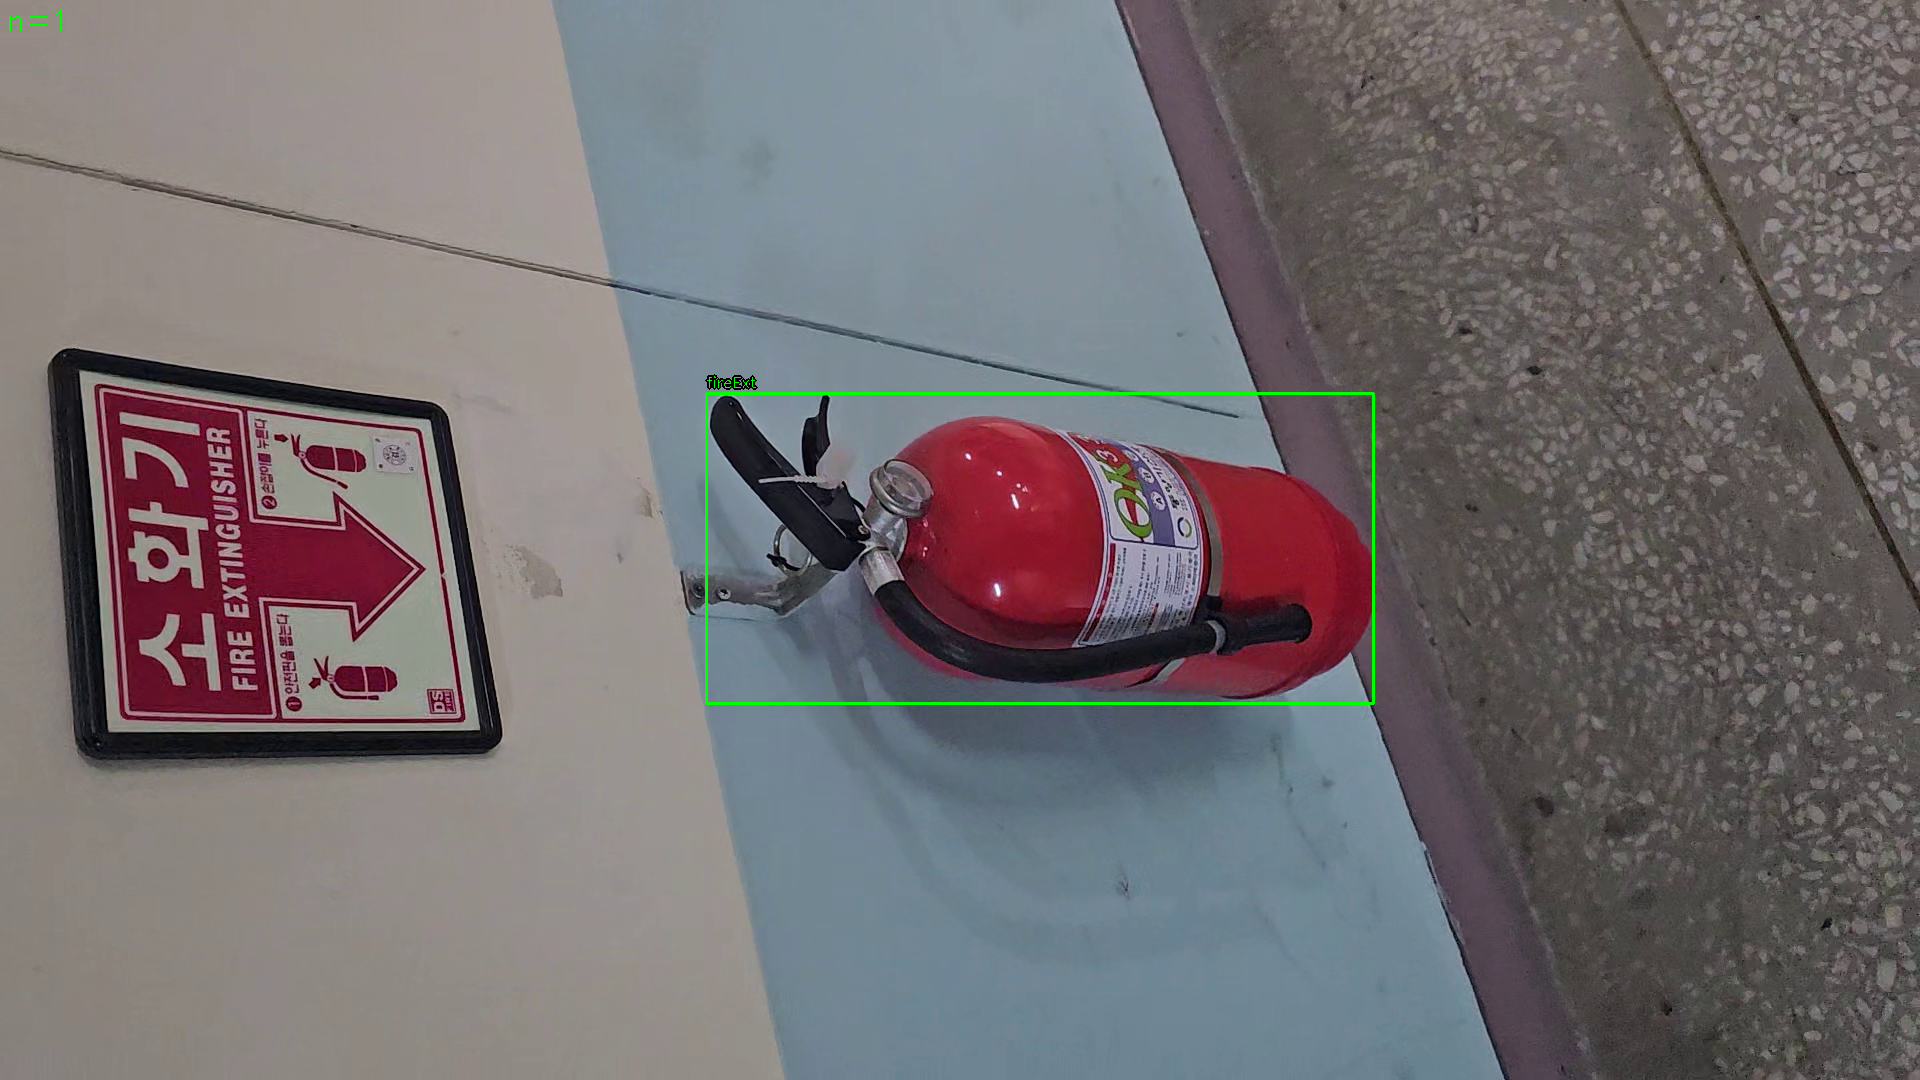lane: (705, 393, 1374, 704)
